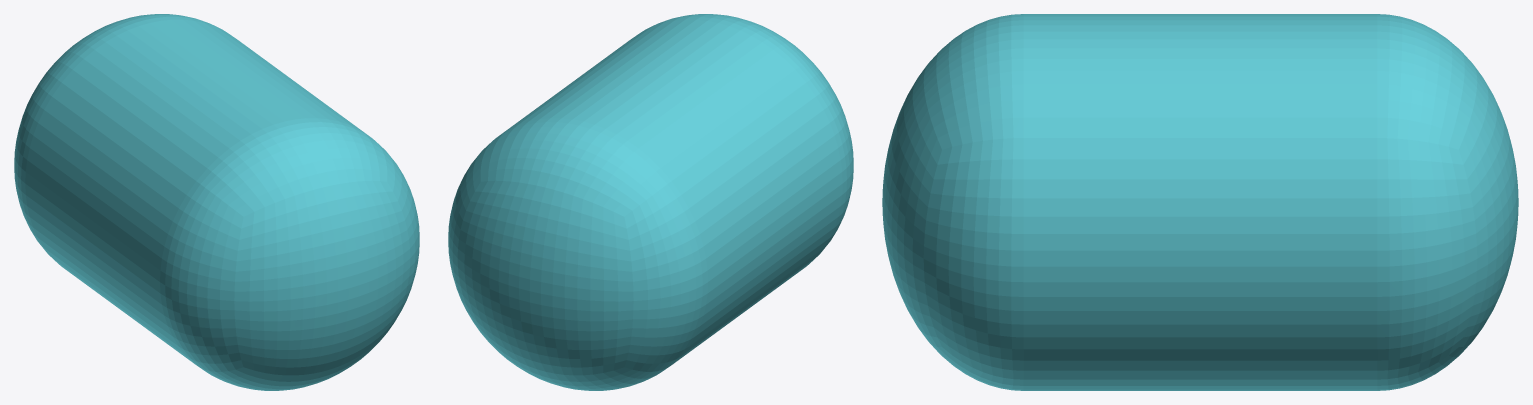
Rendered from player_crouchHitbox.glb.
3 renders of one model, left to right at view 1: azimuth 30°, elevation 25°; view 2: azimuth 150°, elevation 25°; view 3: azimuth 270°, elevation 25°, orthographic. The views are drawn at different scales.
Visible parts, largest first — view 1: Roundcube; view 2: Roundcube; view 3: Roundcube.
Boxes of the visible parts, x1,y1,x2,y2 form: Roundcube: (14, 14, 419, 390); Roundcube: (448, 14, 853, 390); Roundcube: (882, 14, 1518, 390).
Size of the model in its own units: 3.2 by 3.2 by 5.4.
